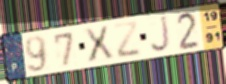2: (176, 10, 201, 52)
7: (52, 29, 76, 67)
9: (24, 34, 50, 73)
J: (150, 14, 173, 54)
X: (82, 24, 116, 64)
Z: (112, 21, 143, 60)
